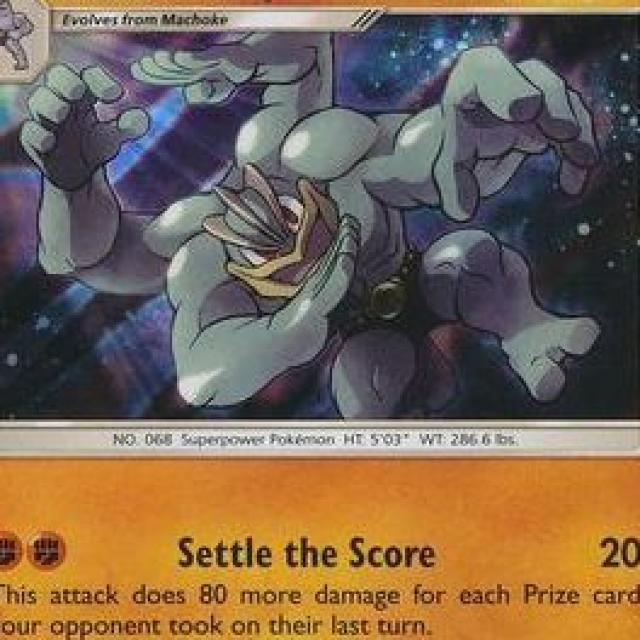Machamp: (0, 34, 632, 423)
